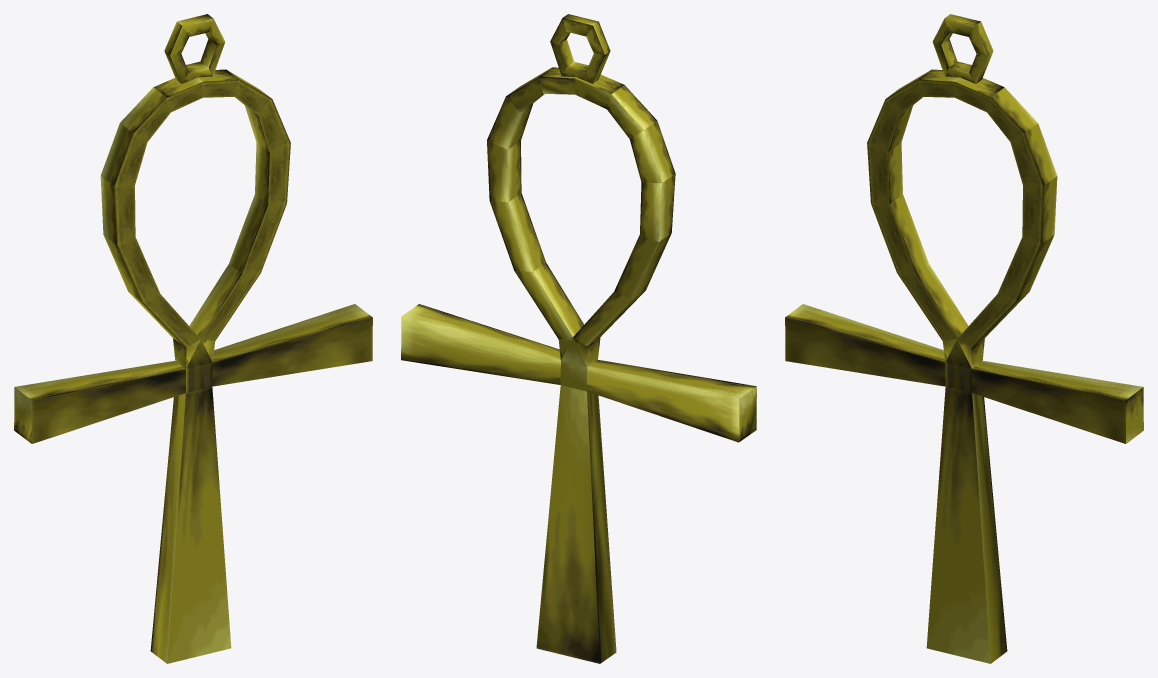
File: ankhgold.obj
The picture shows the model from 3 angles, left to right: view 1: azimuth 30°, elevation 25°; view 2: azimuth 150°, elevation 25°; view 3: azimuth 330°, elevation 25°; orthographic projection.
Parts seen in each view (by area): view 1: aton; view 2: aton; view 3: aton.
Boxes of the visible parts, box(x1,y1,x2,y2) form: aton: box(14, 14, 372, 663); aton: box(401, 14, 756, 663); aton: box(785, 14, 1143, 663).
Bounding box in the file's own units: 45.83 × 81.42 × 4.79.
